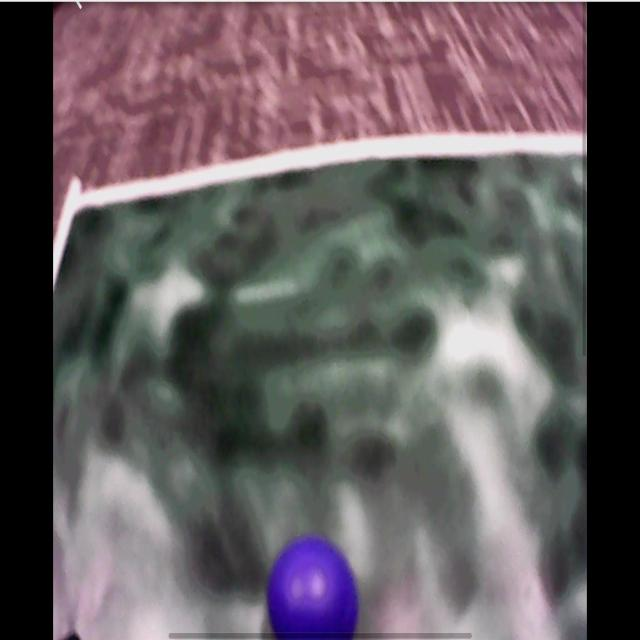ball: (267, 539, 361, 640)
